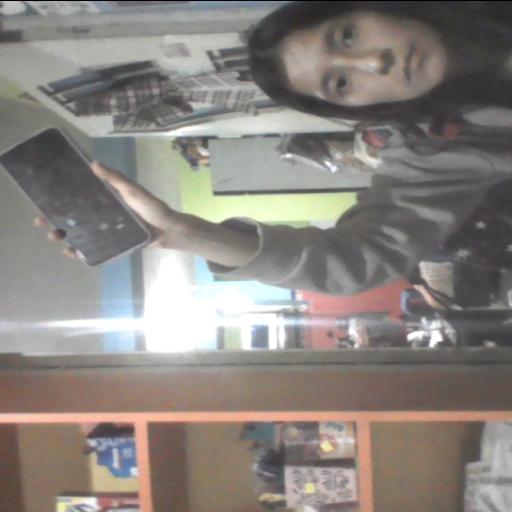phone: (0, 125, 156, 268)
